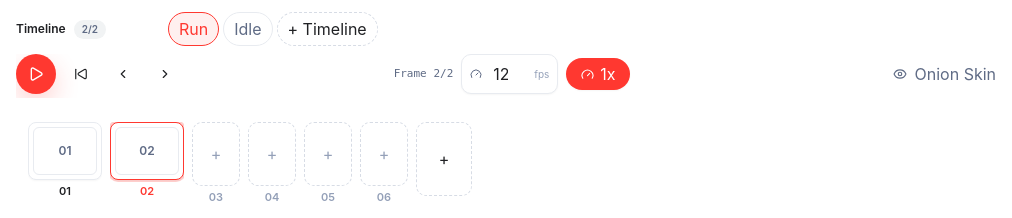
Test: AnimationTimeline › switches between multiple character timelines
What coordinates should you click on to do the following:
click the button with aria-label "Switch to Idle timeline"
I would click on:
 (248, 29)
Its box is top-left (223, 12), bottom-right (272, 46).
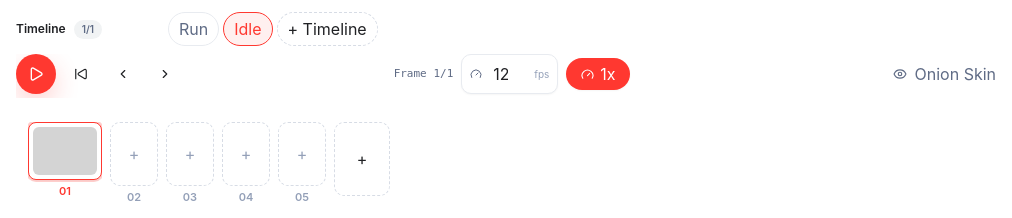
Result: the text "1/1" is shown at top-left (74, 20), bottom-right (102, 38)
